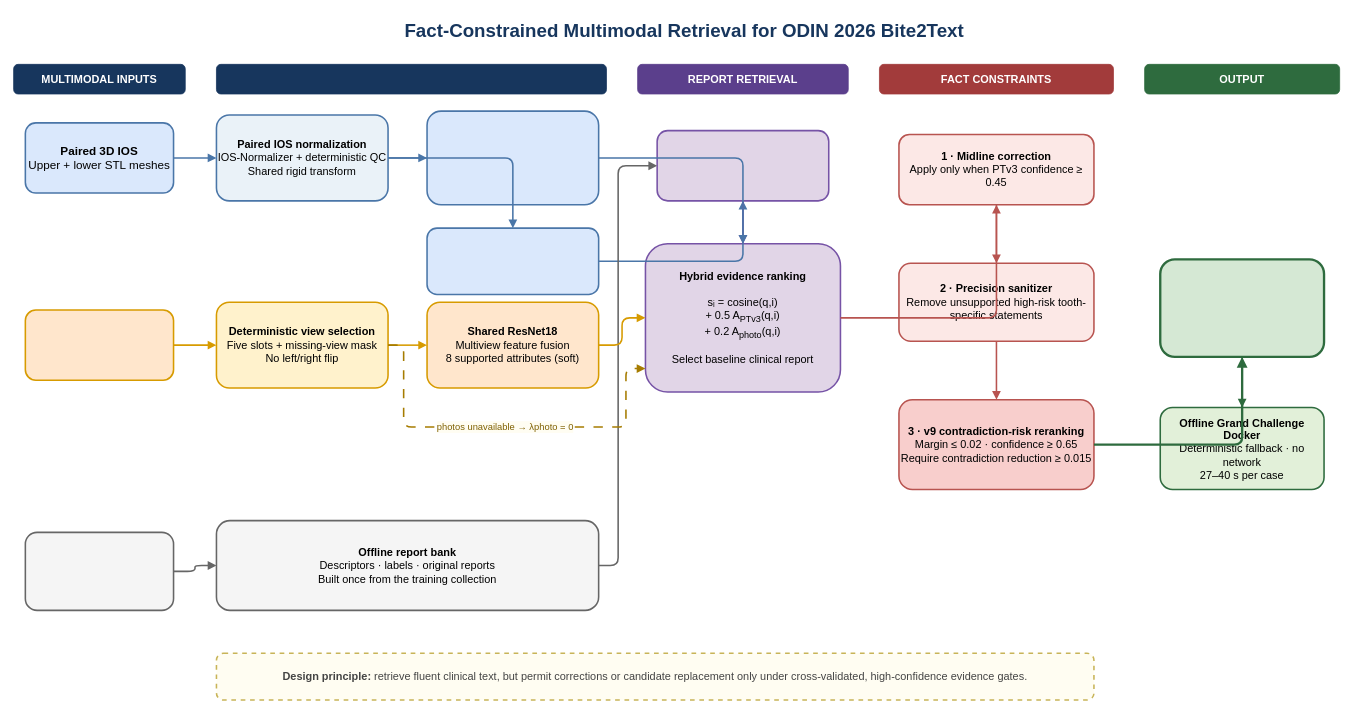
This 1353x714 diagram has some shape labels left out. Each missing label, with the box of its shape:
867-case training collection Structured labels + English clinical reports: (24, 531, 174, 611)
Cosine retrieval Top-50 candidate reports: (656, 129, 829, 201)
Final orthodontic report Fluent retrieved report with conservative fact controls: (1159, 258, 1325, 358)
Geometric descriptor 3,720-D paired-arch representation: (426, 227, 599, 295)
Intraoral photographs Frontal, bilateral & occlusal views: (24, 309, 174, 381)
PRE-PROCESSING & EVIDENCE ENCODERS: (216, 64, 606, 94)
PTv3 geometry encoder 2 × 32,768 surface points 12 attributes + confidence: (426, 110, 599, 205)
